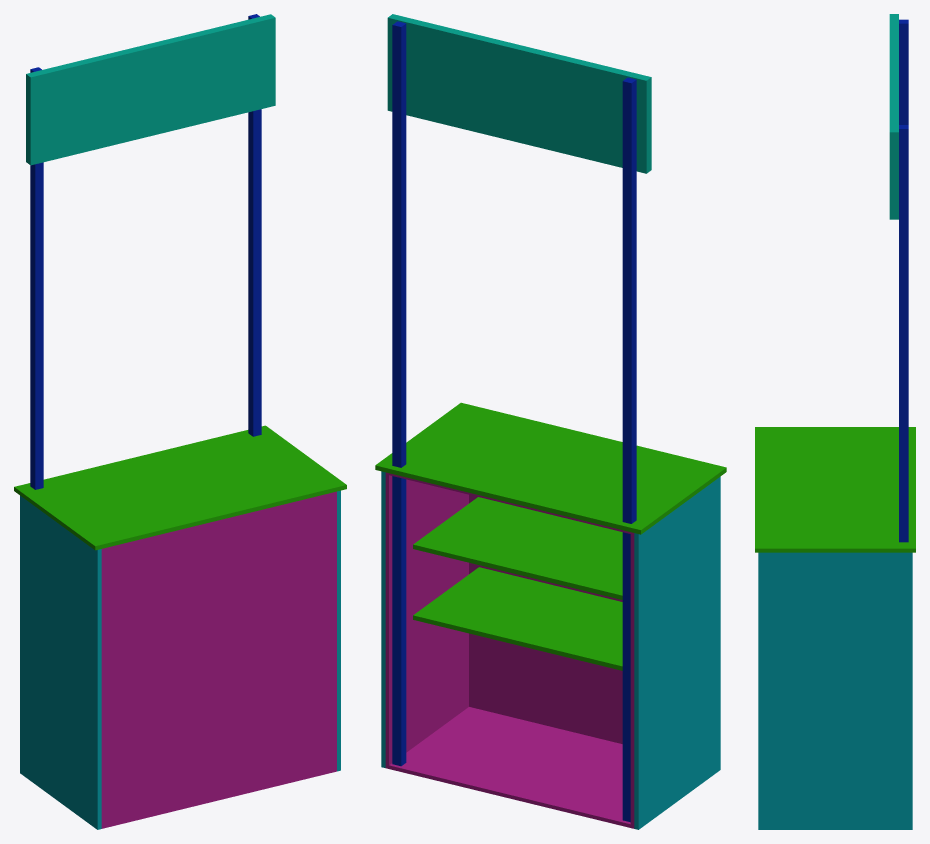
Rendered from Simple_Stand.fbx.
3 renders of one model, left to right at view 1: azimuth 30°, elevation 25°; view 2: azimuth 150°, elevation 25°; view 3: azimuth 270°, elevation 25°, orthographic. The views are drawn at different scales.
Visible parts, largest first — view 1: pCube1, pCube4, polySurface2, pCube3, pCube5, pCube6, polySurface1; view 2: pCube1, polySurface2, pCube4, pCube3, pCube9, pCube8, pCube5, pCube6, polySurface1; view 3: polySurface1, pCube3, pCube5, pCube4, pCube6.
Boxes of the visible parts, x1,y1,x2,y2 form: pCube1: (101, 491, 336, 828); pCube4: (26, 14, 275, 165); polySurface2: (20, 495, 101, 829); pCube3: (14, 425, 346, 550); pCube5: (248, 14, 261, 436); pCube6: (30, 67, 43, 489); polySurface1: (337, 490, 340, 771); pCube1: (385, 472, 634, 828); polySurface2: (634, 476, 720, 829); pCube4: (387, 14, 651, 173); pCube3: (375, 402, 726, 534); pCube9: (413, 567, 622, 670); pCube8: (413, 497, 622, 599); pCube5: (392, 21, 406, 766); pCube6: (622, 77, 636, 822); polySurface1: (381, 471, 385, 767); polySurface1: (758, 552, 912, 829); pCube3: (755, 427, 915, 552); pCube5: (899, 125, 908, 542); pCube4: (889, 14, 898, 219); pCube6: (899, 19, 908, 124).
Size of the model in its own units: 0.7476 by 2 by 0.4177.
